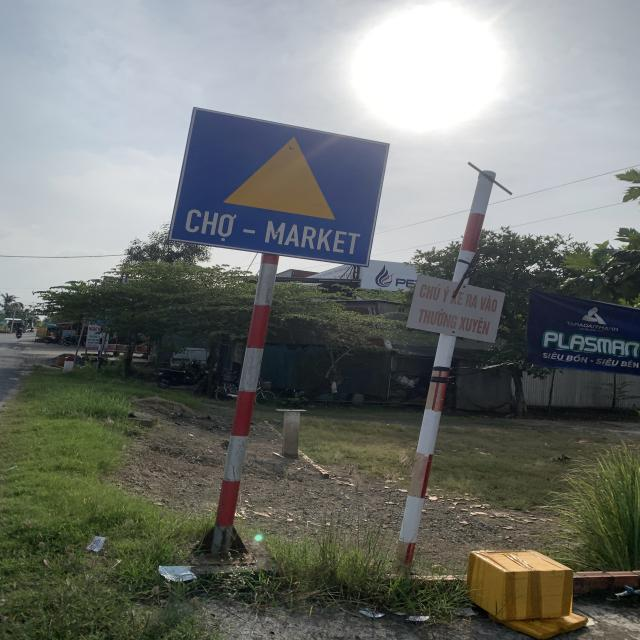Cho_Quay_Xe: (172, 110, 392, 266)
